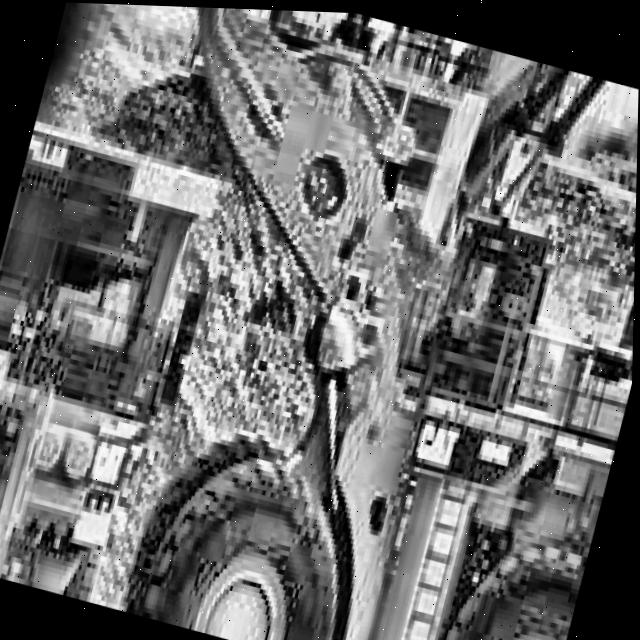buldozerpayloadergrader: (0, 0, 640, 640)
dump_truck: (0, 67, 241, 611)
